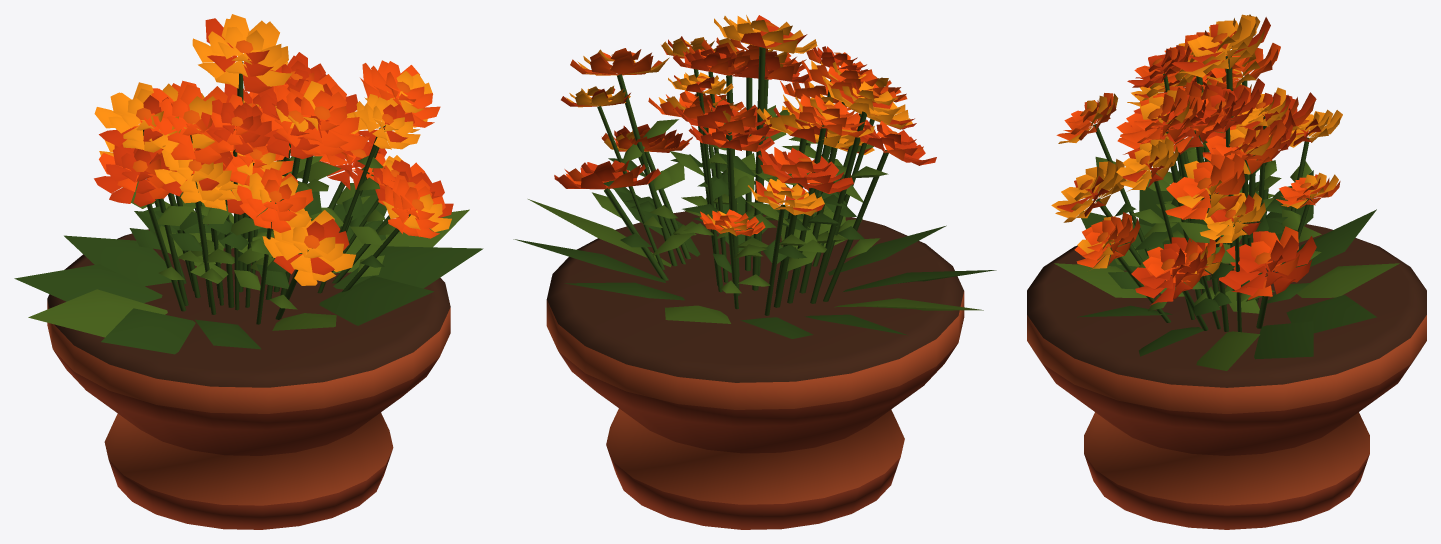
File: jarron_iglesia.obj
The picture shows the model from 3 angles, left to right: view 1: azimuth 30°, elevation 25°; view 2: azimuth 150°, elevation 25°; view 3: azimuth 270°, elevation 25°; orthographic projection. The views are drawn at different scales.
Parts seen in each view (by area): view 1: jarron_iglesia; view 2: jarron_iglesia; view 3: jarron_iglesia.
Boxes of the visible parts, left/top/right/bottom form: jarron_iglesia: left=14, top=14, right=483, bottom=529; jarron_iglesia: left=513, top=15, right=996, bottom=529; jarron_iglesia: left=1027, top=14, right=1426, bottom=529.
Bounding box in the file's own units: 1.06 × 1.02 × 0.8295.
